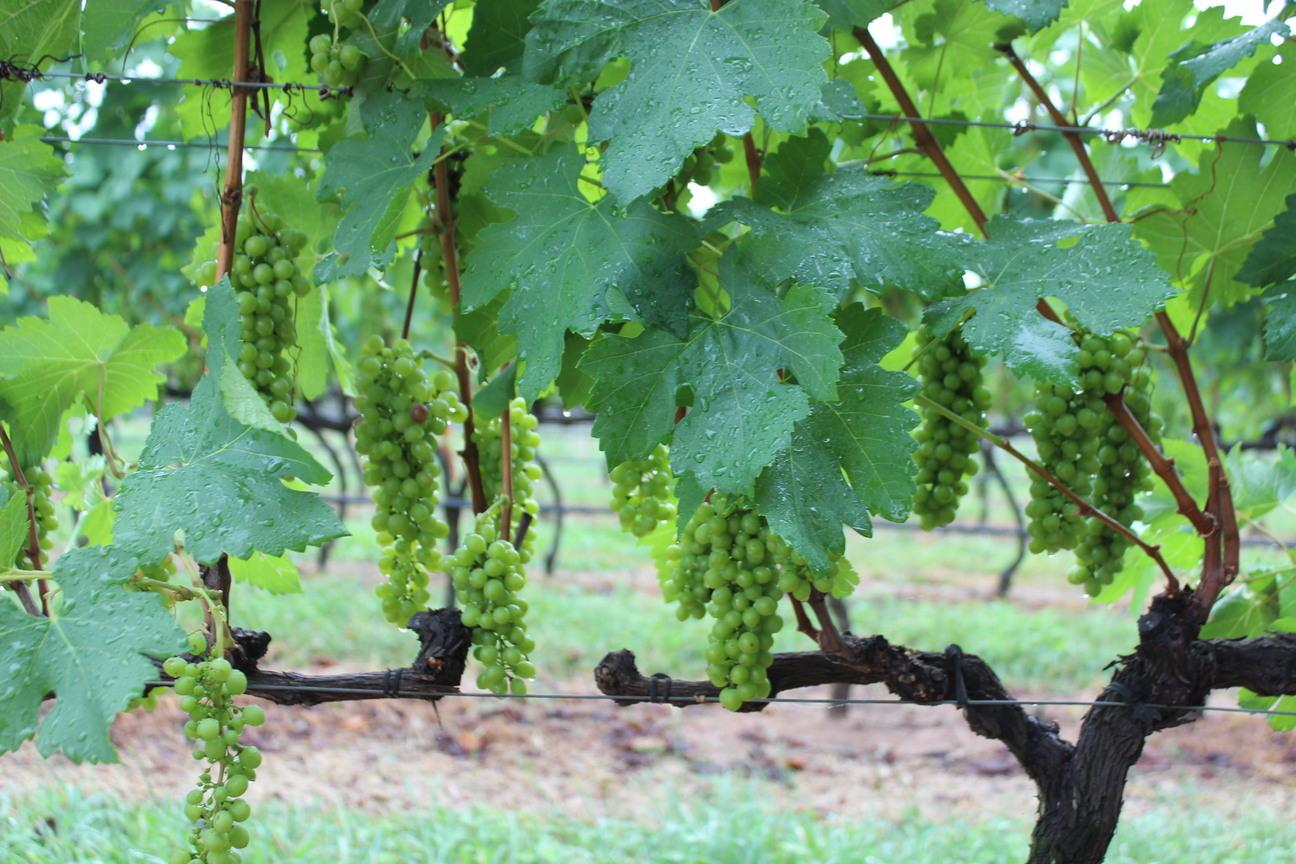leaf: (523, 0, 828, 202), (462, 147, 697, 399), (579, 270, 841, 492), (113, 352, 343, 561), (755, 302, 916, 571), (709, 129, 959, 298), (924, 214, 1171, 378), (0, 545, 181, 761), (0, 295, 185, 457), (318, 91, 443, 274), (1152, 17, 1288, 125), (0, 125, 64, 264), (205, 279, 236, 341), (0, 267, 6, 290), (232, 368, 237, 372)
